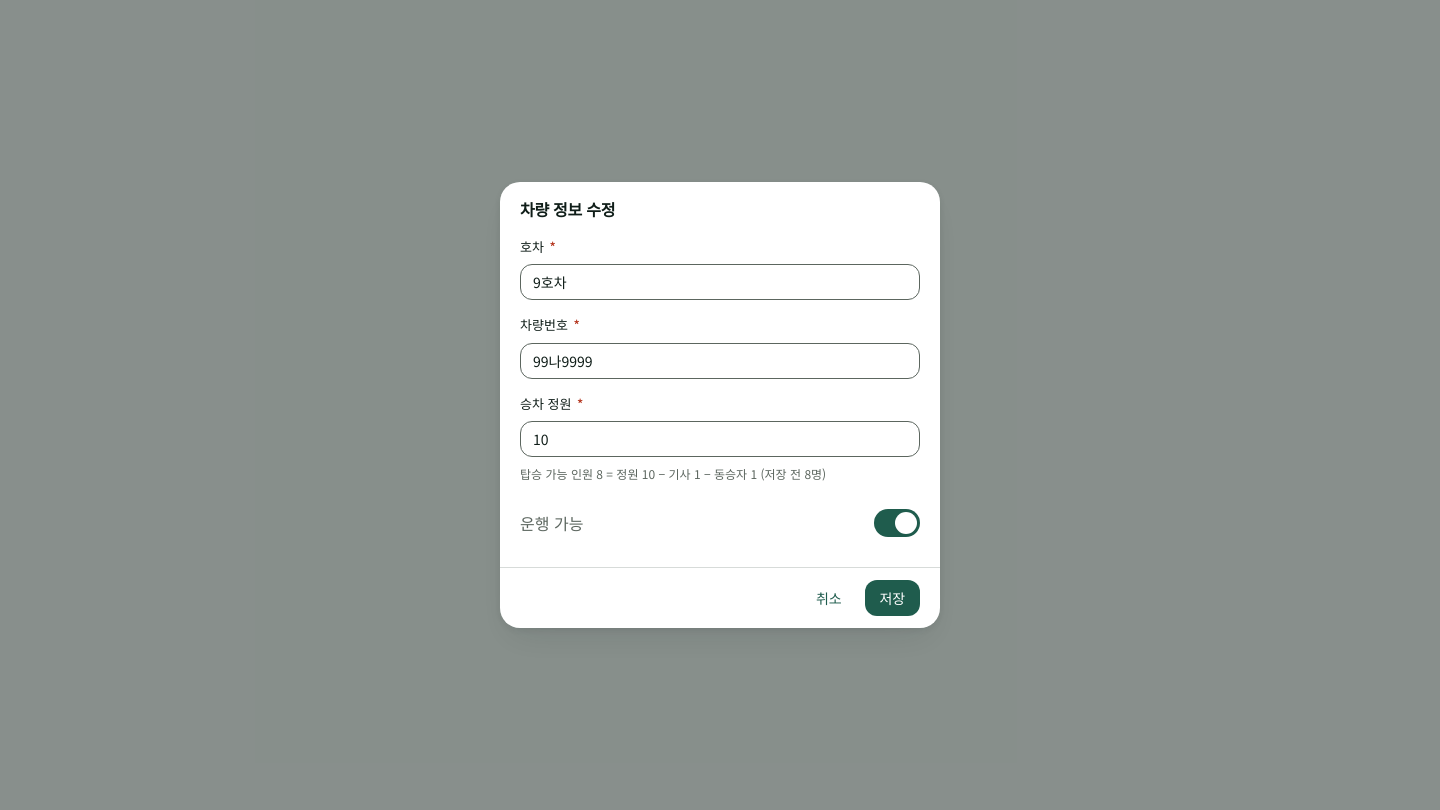
Test: BusForm — 등록 실패 갈래 › 정원 입력칸 아래에 탑승 가능 인원 계산식이 저장 전 값과 함께 나오고, 경고는 건수가 붙은 한 상자로 묶인다
Expected: the text "탑승 가능 인원 8 = 정원 10 − 기사 1 − 동승자 1 (저장 전 8명)" is shown, [520,465,826,482]
Step 1. Replace the text in the number field with "20" → (720, 439), box [520,421,920,457]
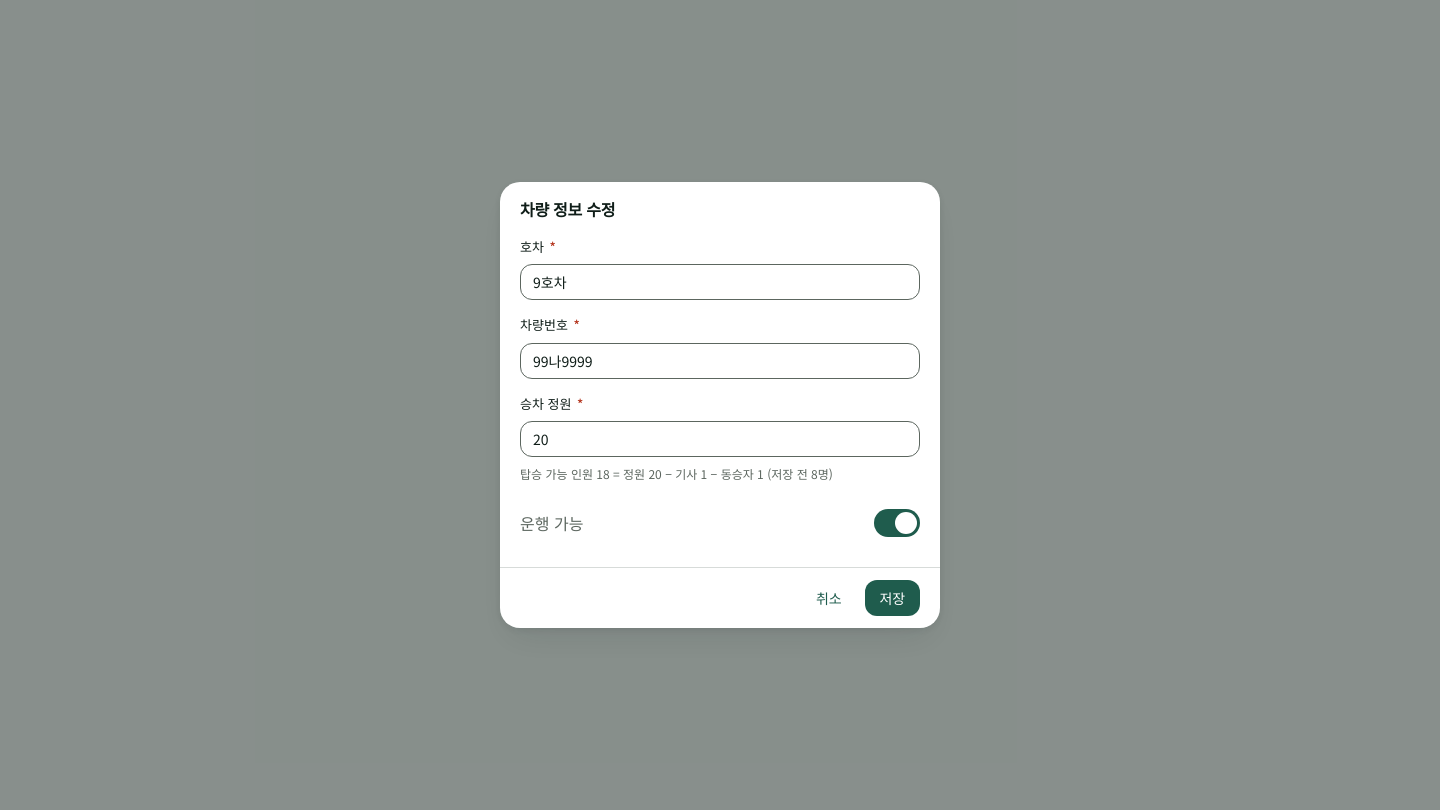
Result: the text "탑승 가능 인원 18 = 정원 20 − 기사 1 − 동승자 1 (저장 전 8명)" is shown at [520,465,833,482]
Step 2. Click the button "저장" → (892, 598), box [864,580,920,616]
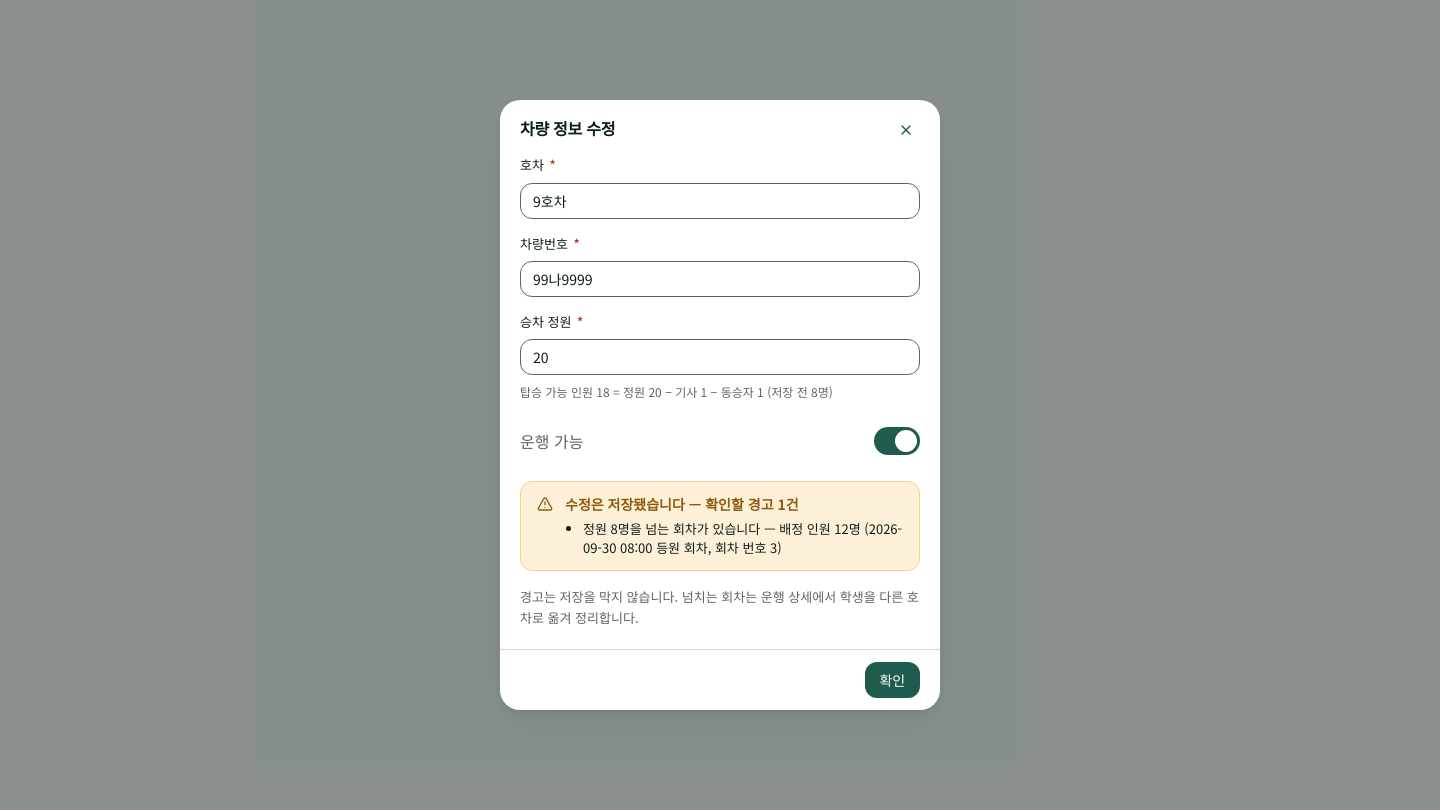
Expected: the button named "닫기" is shown, [892,116,920,144]
Result: the text "수정은 저장됐습니다 — 확인할 경고 1건" is shown at [565,494,799,514]
